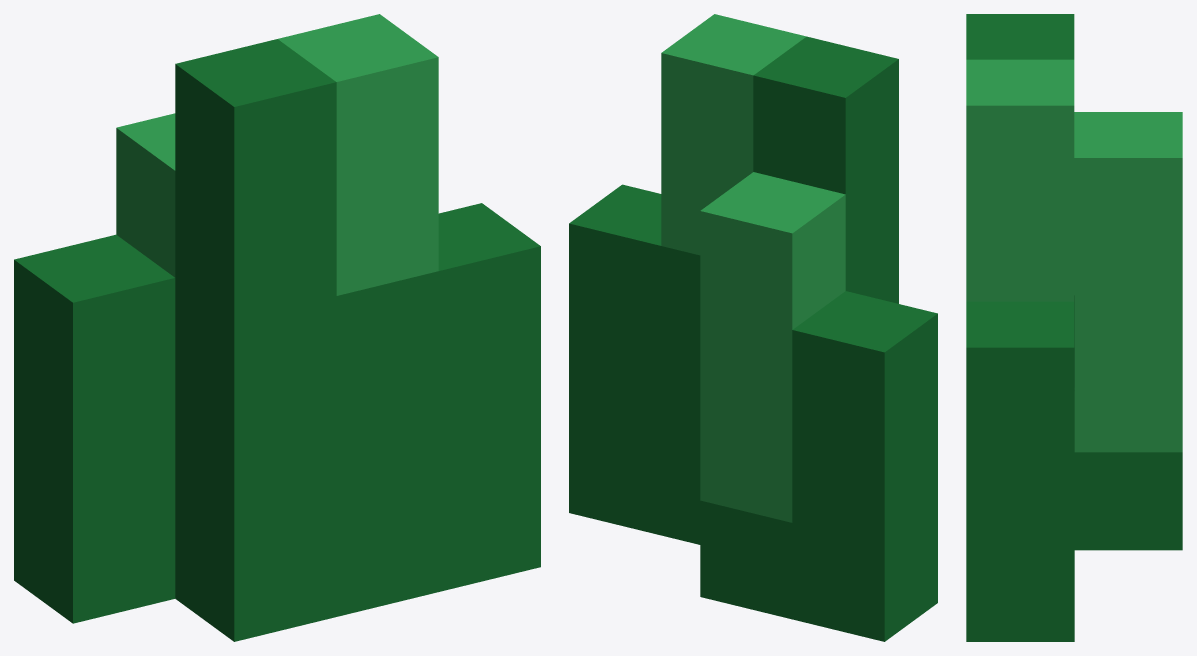
Rendered from SM_Vegetable_1.fbx.
The picture shows the model from 3 angles, left to right: view 1: azimuth 30°, elevation 25°; view 2: azimuth 150°, elevation 25°; view 3: azimuth 270°, elevation 25°; orthographic projection. The views are drawn at different scales.
Visible parts, largest first — view 1: SM_Vegetable_1; view 2: SM_Vegetable_1; view 3: SM_Vegetable_1.
Part boxes in pixels (bbox=[...]): SM_Vegetable_1: bbox=[14, 14, 540, 641]; SM_Vegetable_1: bbox=[569, 14, 937, 641]; SM_Vegetable_1: bbox=[966, 14, 1182, 641].
Size of the model in its own units: 0.4 by 0.5 by 0.2.
Materials: 1 (1 with a texture image).
